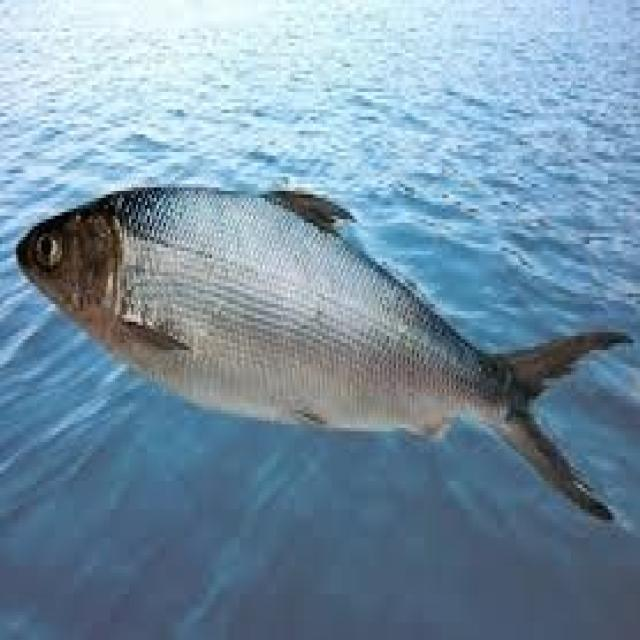Bangus: (18, 141, 640, 516)
